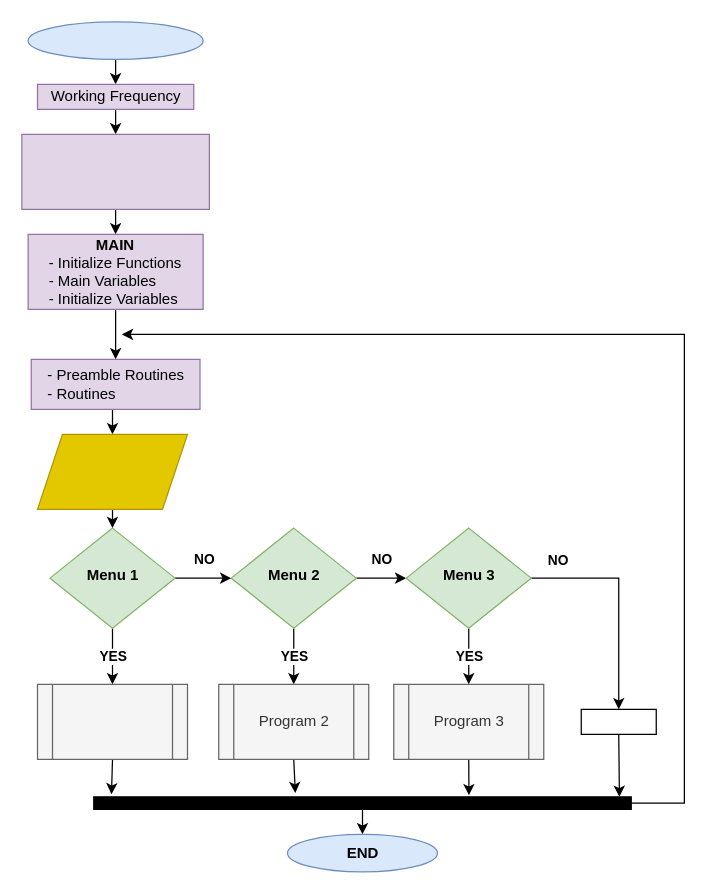
Image size: 716x894. Some labels were removed from this diagram. Each missing label, with the centre of its shape:
- Libraries - Constant & Macros - Global File Variables - Function Headers: [115,171]
Menu = 1: [618,721]
Program 1: [112,721]
READ INPUT: [112,471]
START: [115,40]
